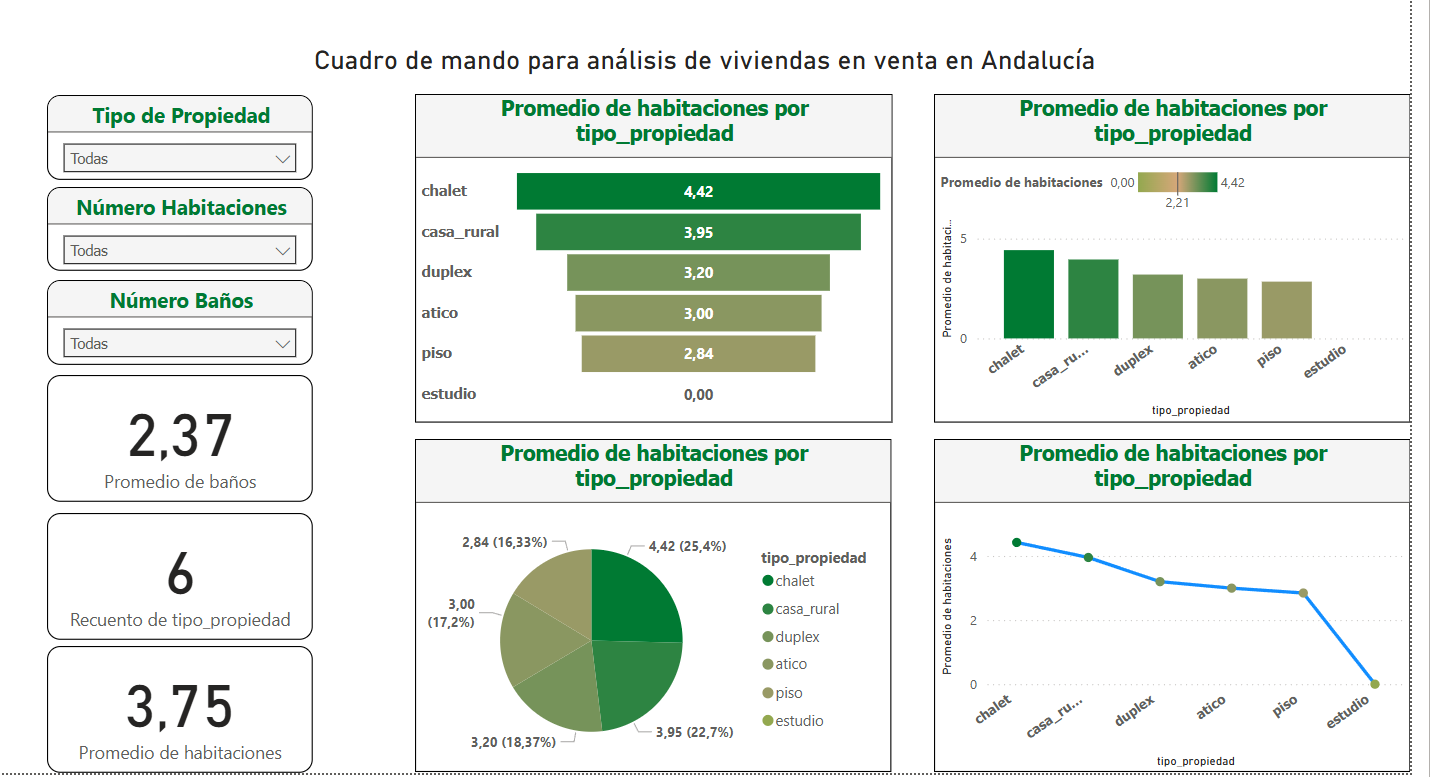

What the dashboard file says about the page in this screenshot:
{"tool":"powerbi","page":{"name":"Resumen","canvas":[1280,720],"ordinal":0},"visuals":[{"type":"funnel","fields":{"Category":["andalucia_clean.tipo_propiedad"],"Y":["Avg(andalucia_clean.habitaciones)"]},"box":[377.4,104.1,432.8,297.6],"z":0},{"type":"slicer","title":"Tipo de Propiedad","fields":{"Values":["andalucia_clean.tipo_propiedad"]},"box":[43.8,104.8,241.4,76.9],"z":1000},{"type":"slicer","title":"Número Habitaciones","fields":{"Values":["andalucia_clean.habitaciones"]},"box":[43.8,188.4,241.4,75.6],"z":2000},{"type":"slicer","title":"Número Baños","fields":{"Values":["andalucia_clean.baños"]},"box":[43.8,273.2,241.4,76.9],"z":3000},{"type":"columnChart","fields":{"Category":["andalucia_clean.tipo_propiedad"],"Y":["Avg(andalucia_clean.habitaciones)"]},"box":[848.1,104.1,431.9,297.6],"z":4000},{"type":"pieChart","fields":{"Category":["andalucia_clean.tipo_propiedad"],"Y":["Avg(andalucia_clean.habitaciones)"]},"box":[377.4,417.3,431.9,302.5],"z":5000},{"type":"lineChart","fields":{"Category":["andalucia_clean.tipo_propiedad"],"Y":["Avg(andalucia_clean.habitaciones)"]},"box":[848.1,417.3,431.9,302.5],"z":6000},{"type":"card","title":"Número Baños","fields":{"Values":["Avg(andalucia_clean.baños)"]},"box":[43.8,359.5,241.4,115.4],"z":7000},{"type":"card","title":"Número Baños","fields":{"Values":["Count(andalucia_clean.tipo_propiedad)"]},"box":[43.8,484.1,241.4,115.4],"z":8000},{"type":"card","title":"Número Baños","fields":{"Values":["Avg(andalucia_clean.habitaciones)"]},"box":[43.8,604.8,241.4,115.4],"z":9000},{"type":"card","fields":{"Values":["andalucia_clean_20250528.Título_v1"]},"box":[0,0,1280.4,62.6],"z":10000}]}

Visuals, with their boxes in screenshot pixels (x1, y1, x2, y2):
funnel - andalucia_clean.tipo_propiedad x Avg(andalucia_clean.habitaciones): x1=413 y1=92 x2=890 y2=421
"Tipo de Propiedad" slicer: x1=45 y1=93 x2=311 y2=178
"Número Habitaciones" slicer: x1=45 y1=185 x2=311 y2=269
"Número Baños" slicer: x1=45 y1=279 x2=311 y2=364
columnChart - andalucia_clean.tipo_propiedad x Avg(andalucia_clean.habitaciones): x1=932 y1=92 x2=1408 y2=421
pieChart - andalucia_clean.tipo_propiedad x Avg(andalucia_clean.habitaciones): x1=413 y1=438 x2=889 y2=772
lineChart - andalucia_clean.tipo_propiedad x Avg(andalucia_clean.habitaciones): x1=932 y1=438 x2=1408 y2=772
"Número Baños" card: x1=45 y1=374 x2=311 y2=501
"Número Baños" card: x1=45 y1=512 x2=311 y2=639
"Número Baños" card: x1=45 y1=645 x2=311 y2=772
card - andalucia_clean_20250528.Título_v1: x1=0 y1=0 x2=1409 y2=47
